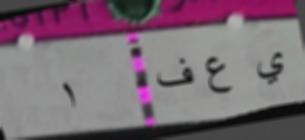1: (58, 73, 80, 114)
ain: (204, 50, 234, 100)
faa: (156, 54, 195, 93)
yaa: (255, 50, 288, 87)
